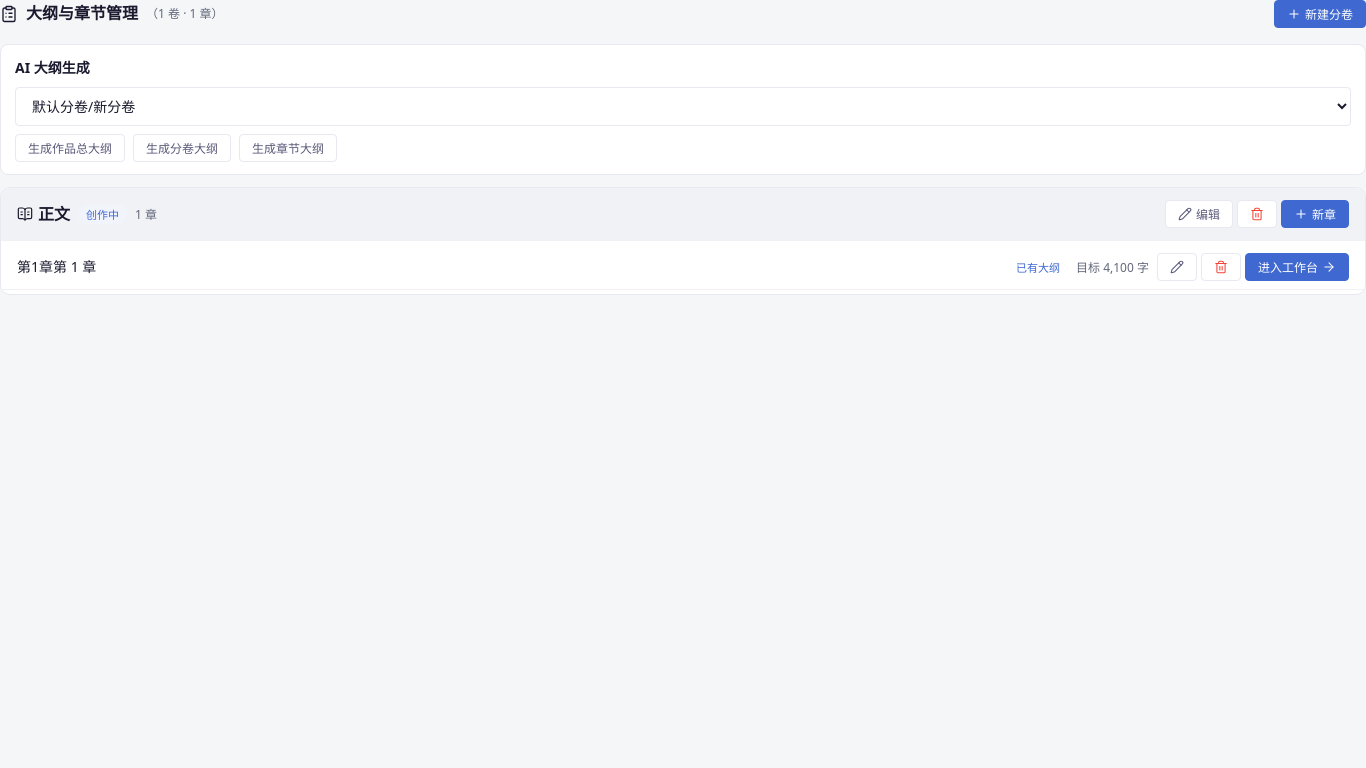
Test: OutlineManager edit dialogs › closes chapter and volume dialogs after a successful edit save
The image size is (1366, 768).
Check: the text "第 1 章" is shown, box [53,257,96,276]
Click the button named "编辑章节 第 1 章". click: coordinates (1177, 267)
box: [1157,253,1197,281]
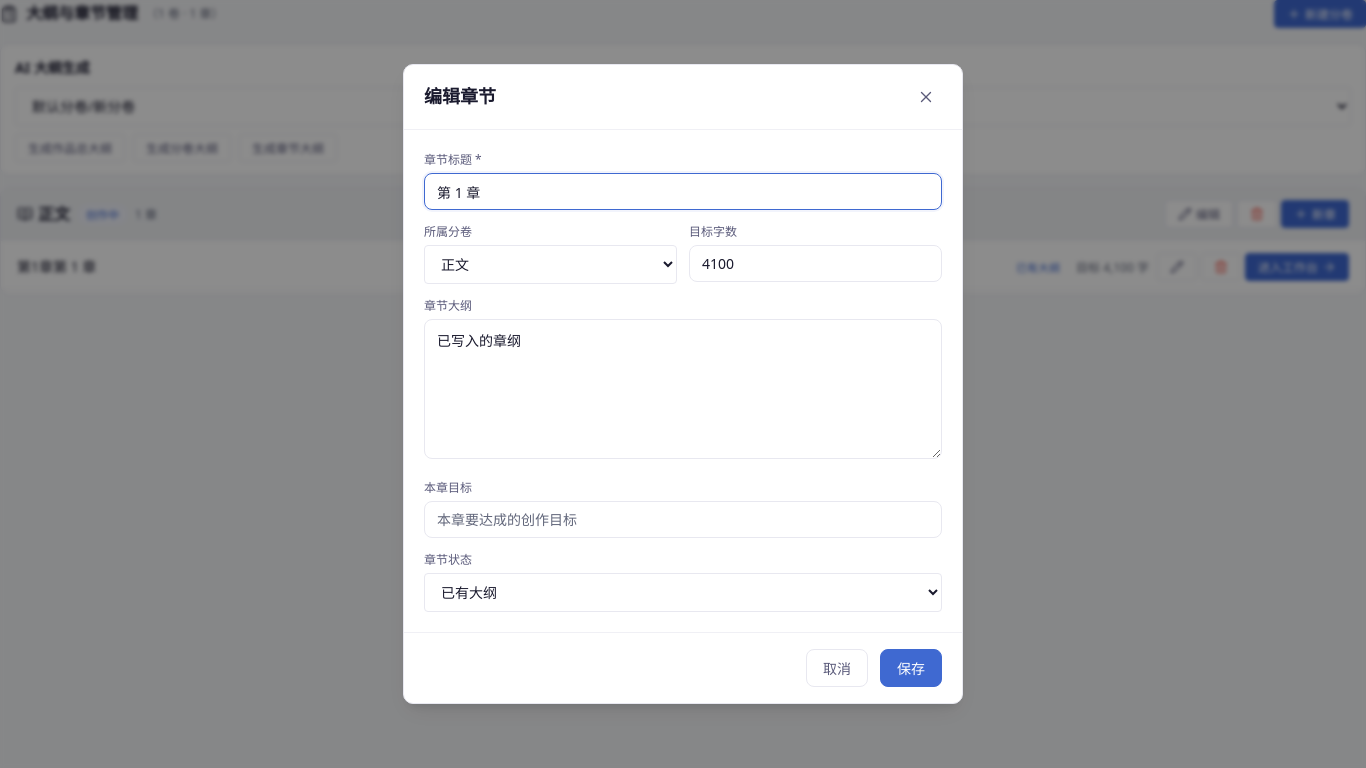
Check: the text "编辑章节" is shown, box [424,84,496,108]
Click the button "保存". click: coordinates (911, 668)
box: [880,649,942,687]
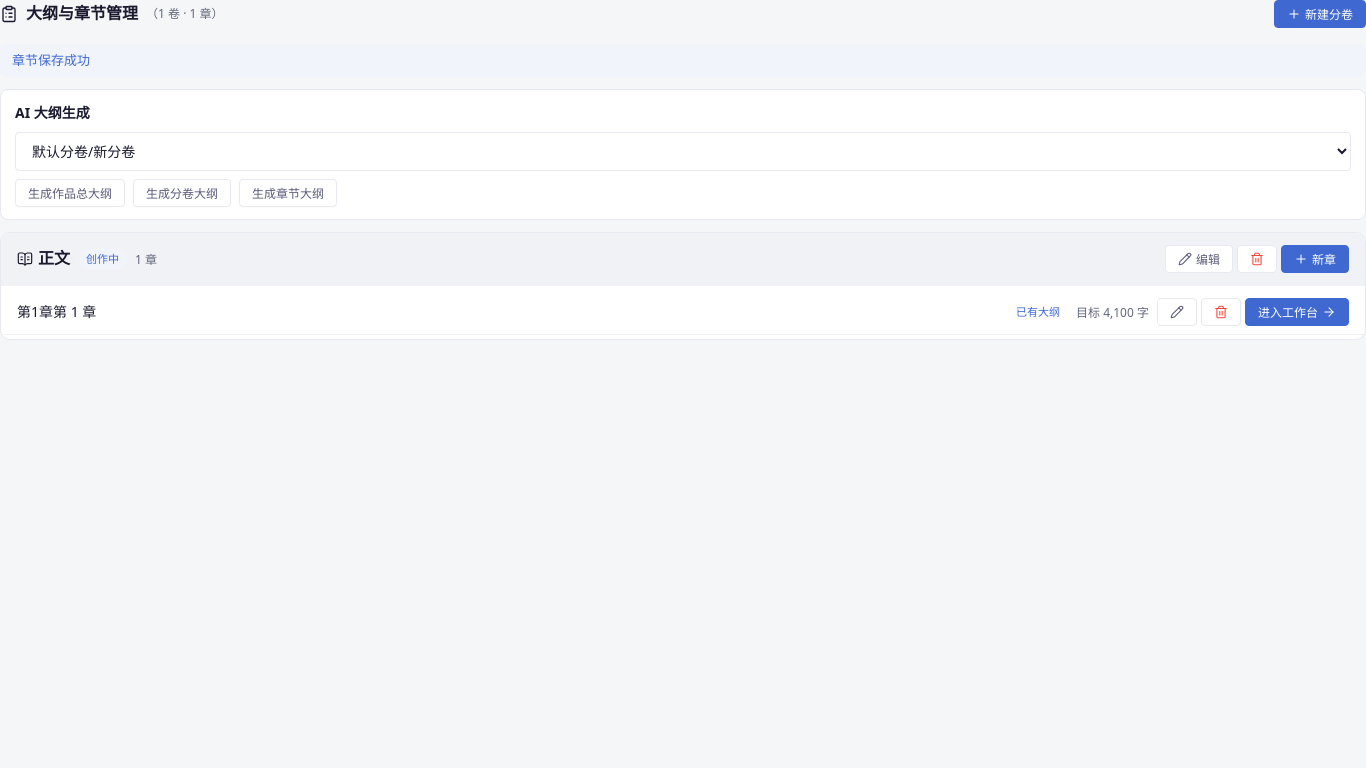
Check: the element with class "modal-overlay" is gone
Check: the heading "编辑章节" is gone
Click the button "编辑". click: coordinates (1199, 259)
box: [1165,245,1233,273]
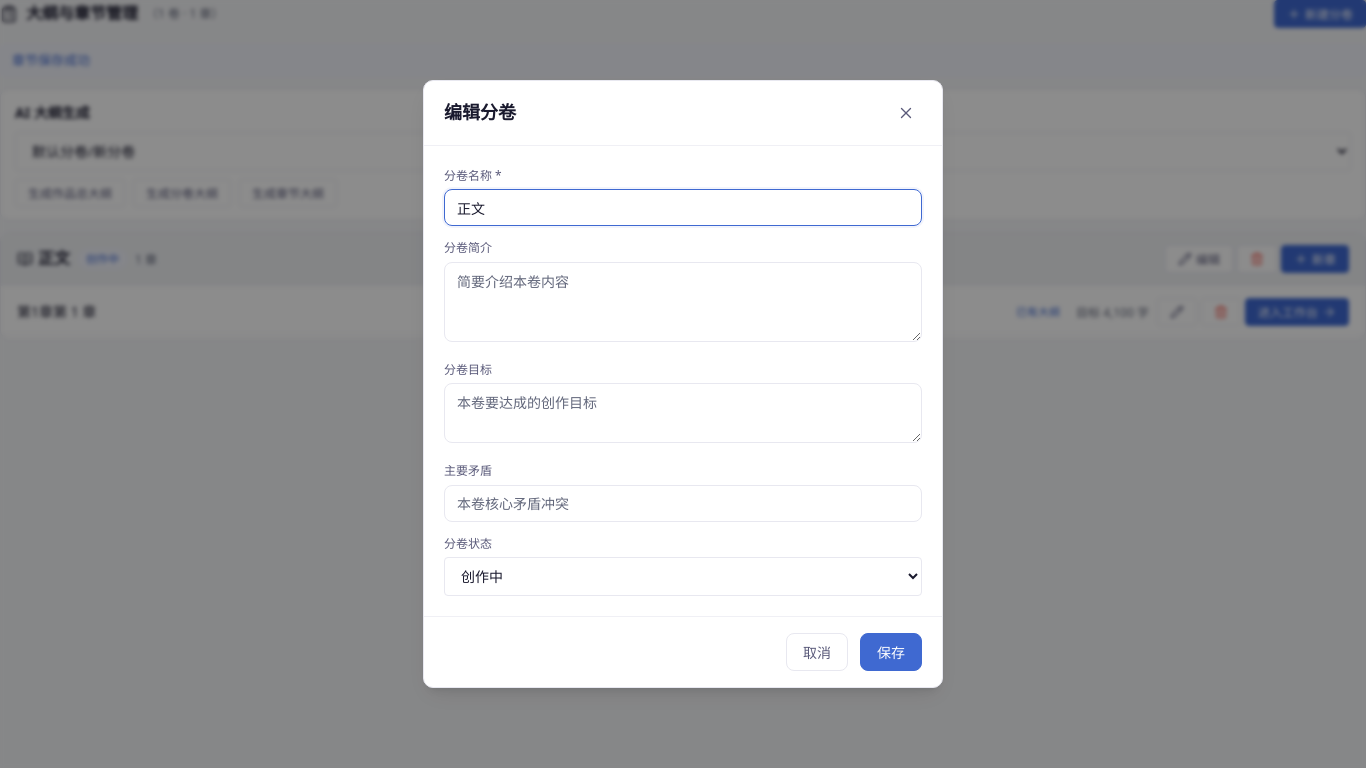
Check: the text "编辑分卷" is shown, box [444,100,516,124]
Click the button "保存". click: coordinates (891, 652)
box: [860,633,922,671]
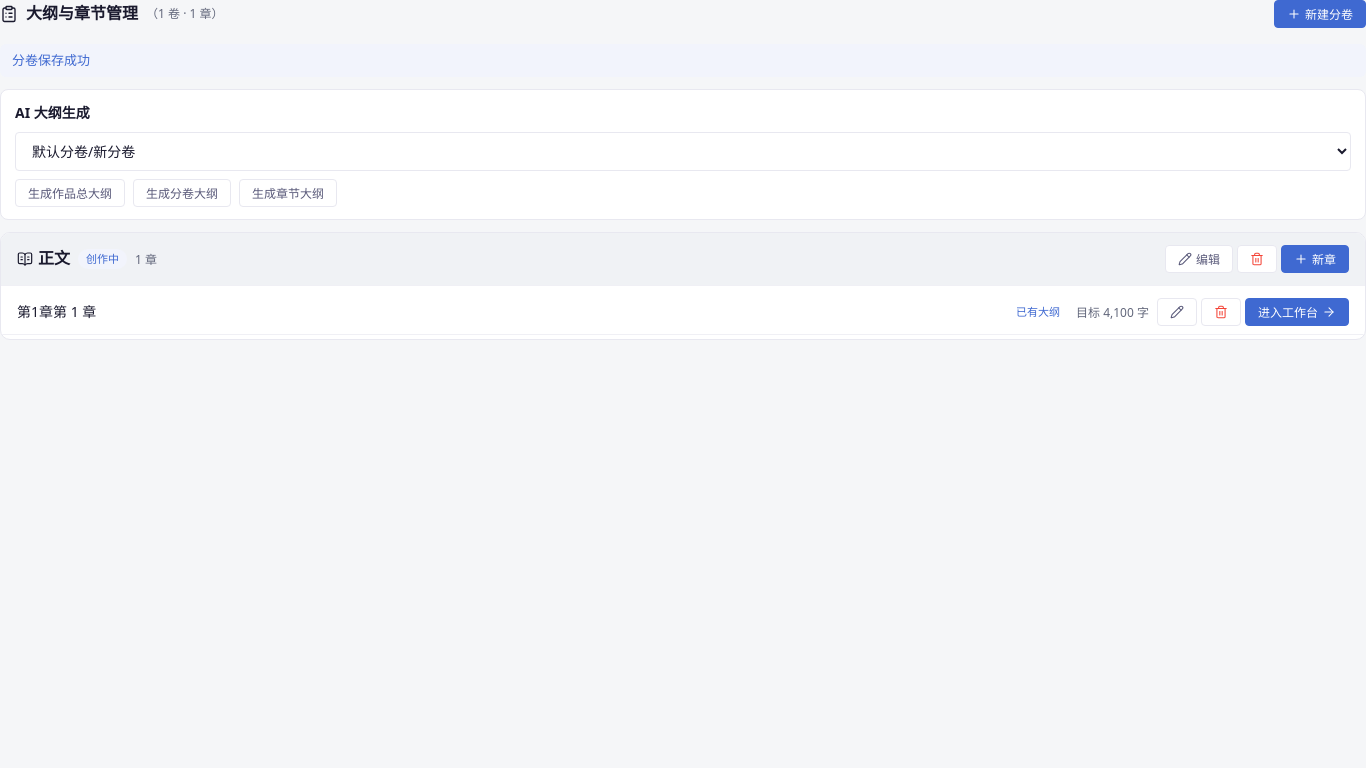
Check: the element with class "modal-overlay" is gone
Check: the heading "编辑分卷" is gone
